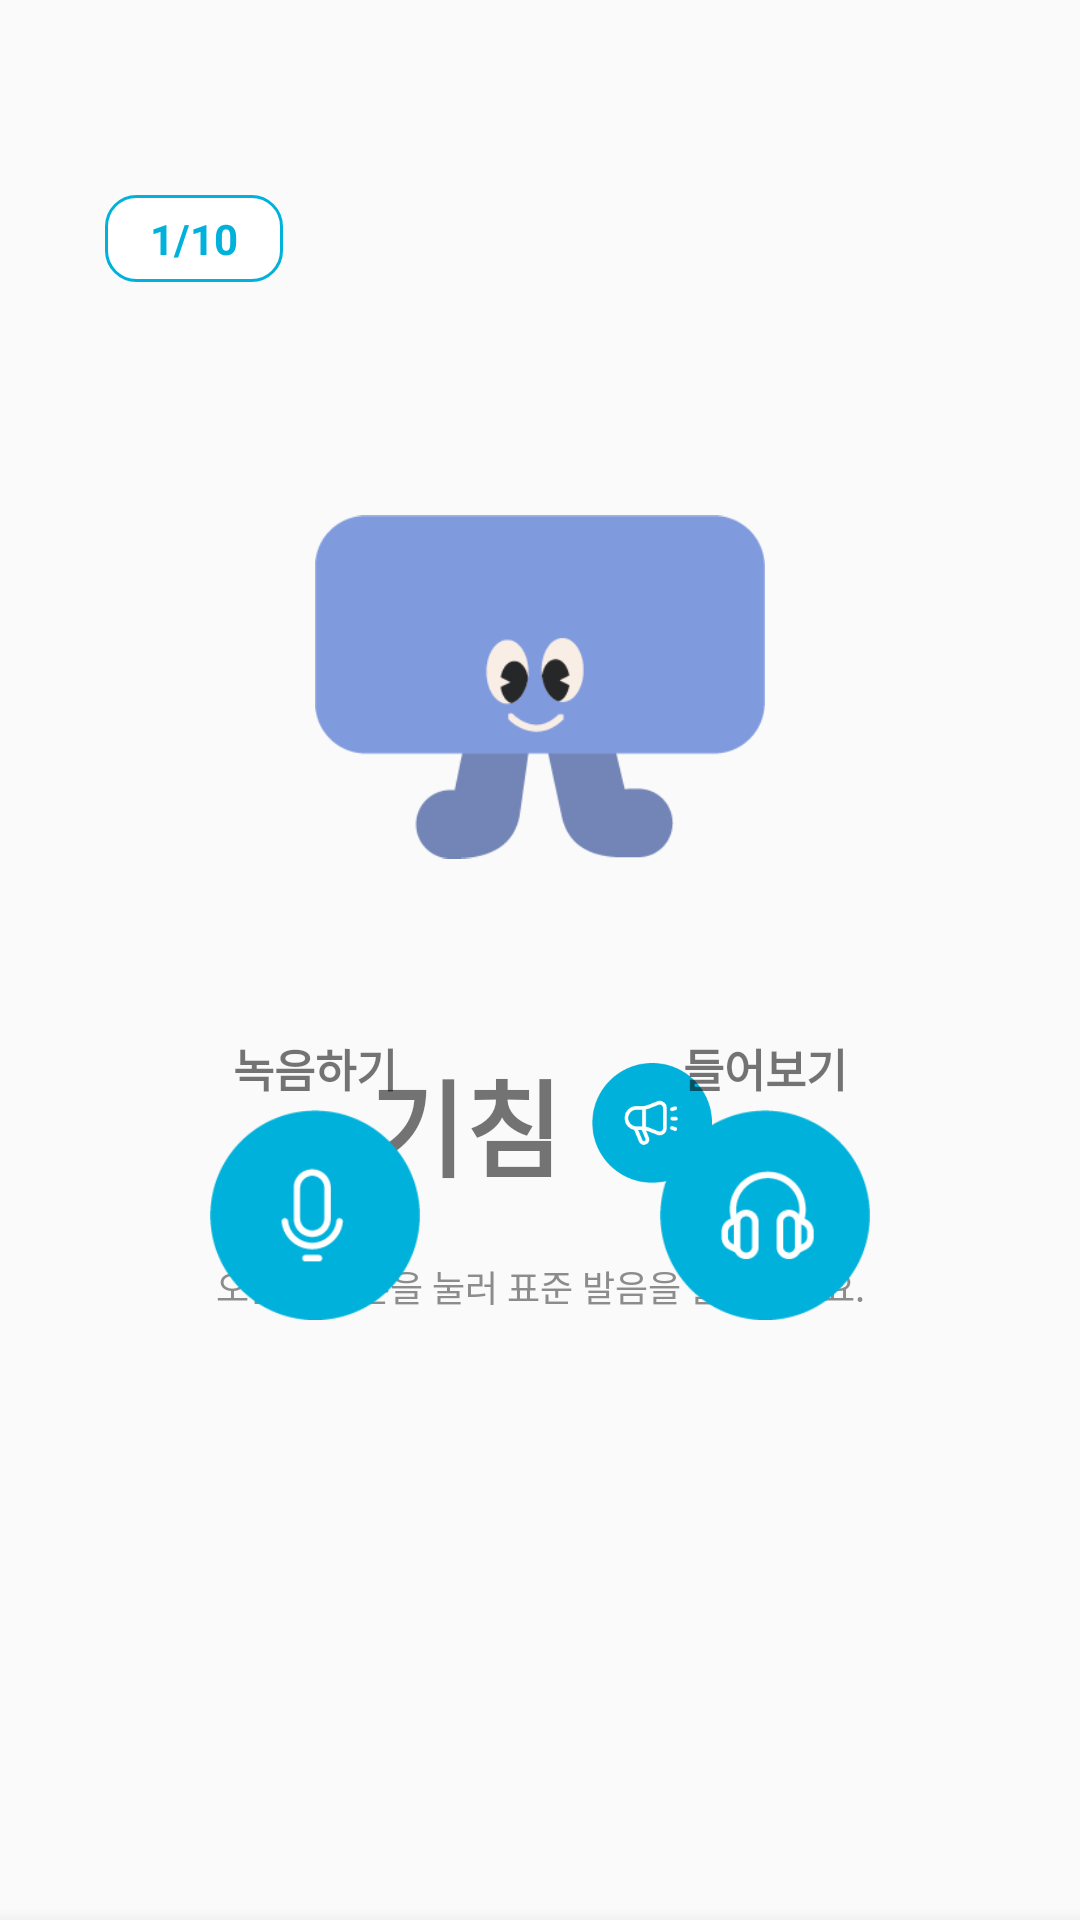

Locate icon controls on the screen. Image size 1080px×1920px, boxes as bbox(x1, y1, x2, y2).
audio start: bbox(592, 1063, 712, 1183)
